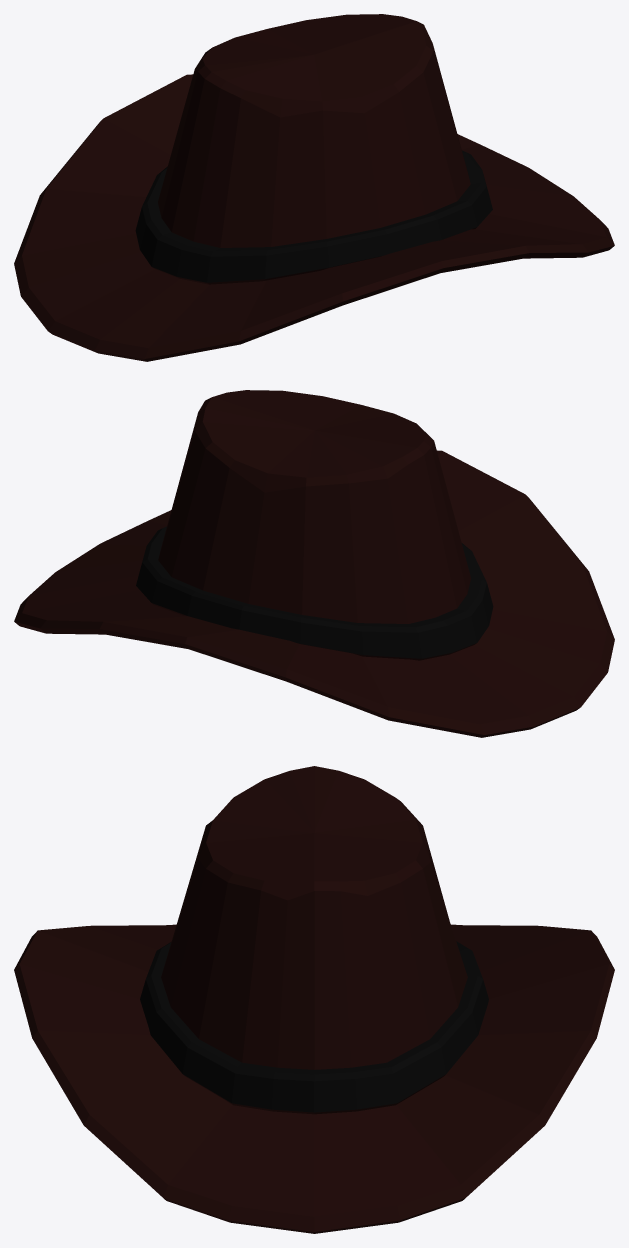
The model's file is ww_hat_a.glb.
3 views of the same model, one above another, from view 1: azimuth 30°, elevation 25°; view 2: azimuth 150°, elevation 25°; view 3: azimuth 270°, elevation 25° (orthographic). The views are drawn at different scales.
Visible parts, largest first — view 1: Hat_A; view 2: Hat_A; view 3: Hat_A.
Part boxes in pixels (<box>): Hat_A: <box>14,14,614,361</box>; Hat_A: <box>14,390,614,737</box>; Hat_A: <box>14,766,614,1233</box>.
Bounding box in the file's own units: 0.5418 × 0.2201 × 0.4567.
